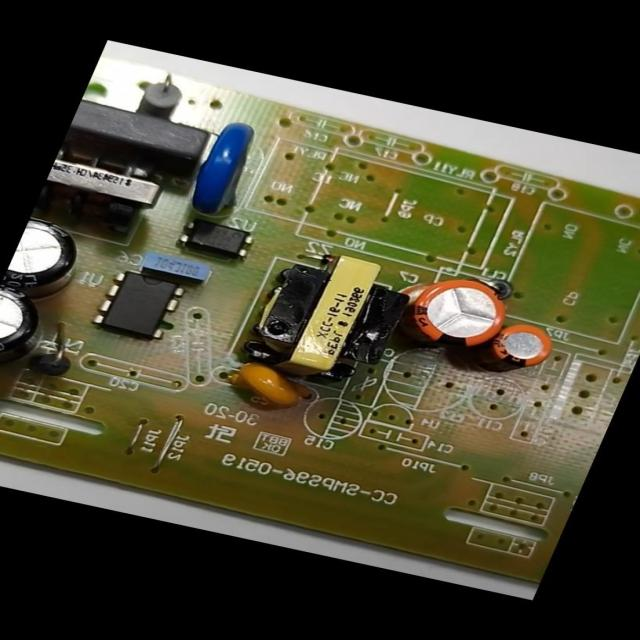Cap1: (400, 271, 519, 356)
Cap2: (484, 318, 560, 374)
Cap3: (1, 217, 92, 297)
Cap4: (0, 284, 59, 367)
MOSFET: (89, 269, 189, 344)
Mov: (182, 118, 267, 218)
Resistor: (132, 70, 192, 125)
Transformer: (237, 243, 423, 389), (32, 143, 172, 236)
